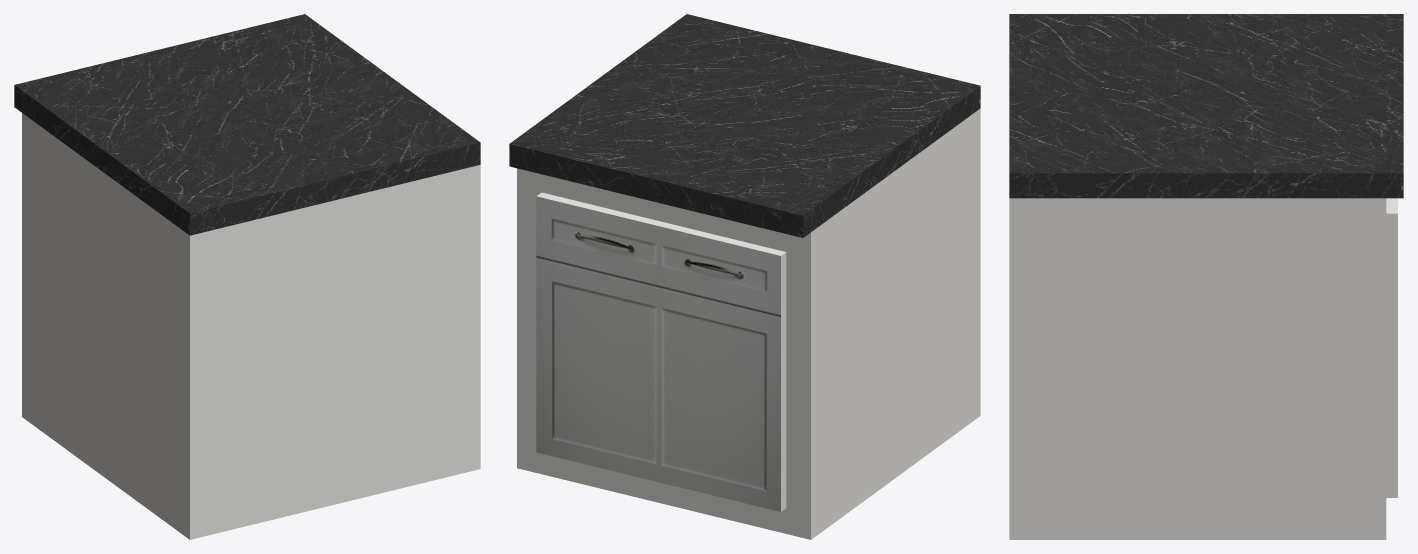
File: Counter_Top_Single.fbx
3 views of the same model, side by side, from view 1: azimuth 30°, elevation 25°; view 2: azimuth 150°, elevation 25°; view 3: azimuth 270°, elevation 25° (orthographic). The views are drawn at different scales.
Visible parts, largest first — view 1: pCube9; view 2: pCube9; view 3: pCube9.
Part boxes in pixels (left/top/right/bottom): pCube9: left=14, top=14, right=480, bottom=539; pCube9: left=509, top=14, right=980, bottom=539; pCube9: left=1009, top=14, right=1403, bottom=539.
Size of the model in its own units: 21.78 by 23.36 by 22.79.
